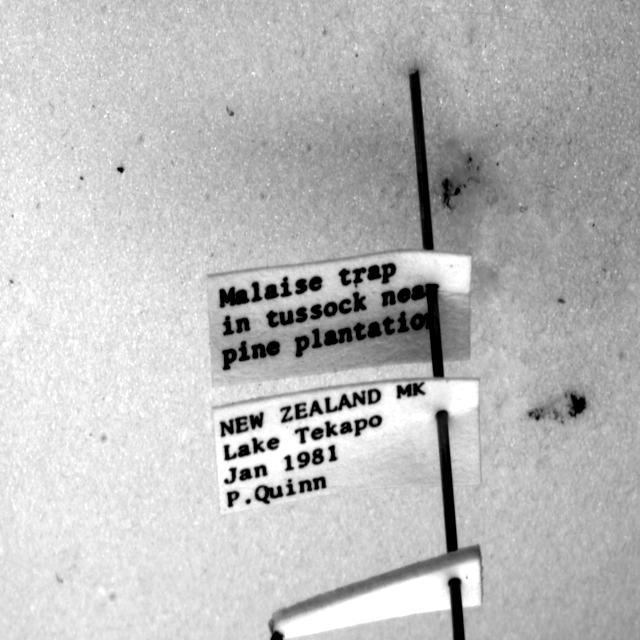typed_label: (212, 379, 481, 514), (209, 249, 471, 384)
